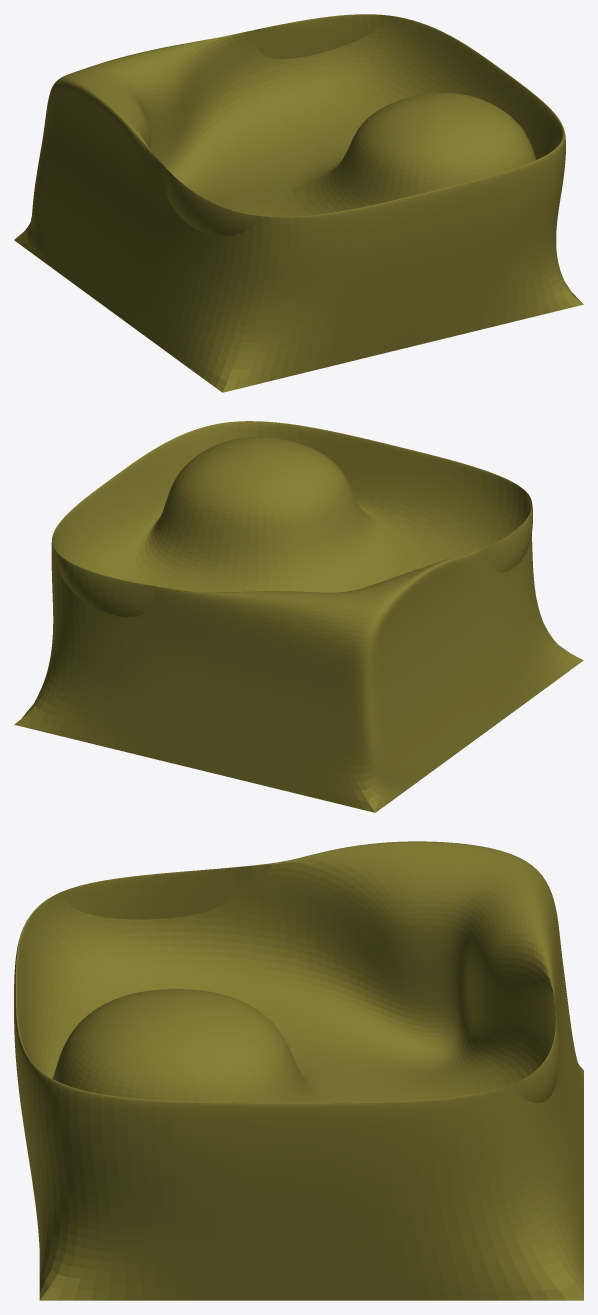
Rendered from terrainlight.fbx.
3 renders of one model, top to bottom at view 1: azimuth 30°, elevation 25°; view 2: azimuth 150°, elevation 25°; view 3: azimuth 270°, elevation 25°, orthographic. The views are drawn at different scales.
Parts seen in each view (by area): view 1: Cube; view 2: Cube; view 3: Cube.
Part boxes in pixels (<box>): Cube: <box>14,14,583,392</box>; Cube: <box>14,421,583,812</box>; Cube: <box>14,841,583,1300</box>.
Size of the model in its own units: 1424 by 665 by 1419.
